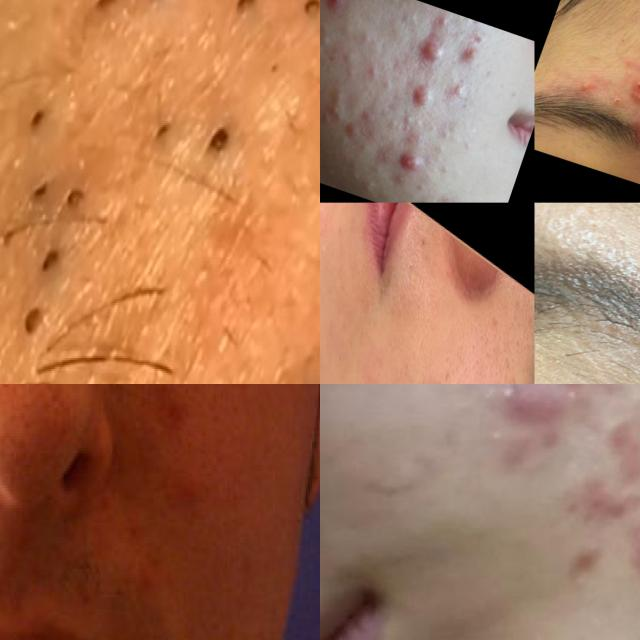acne_scars: (579, 397, 640, 485), (564, 471, 640, 525)
comedone: (552, 385, 598, 419), (478, 418, 518, 456), (204, 112, 232, 162), (56, 177, 88, 214), (22, 307, 48, 348), (234, 0, 266, 29), (27, 108, 56, 139), (39, 236, 60, 277), (432, 159, 459, 186), (358, 176, 385, 202), (87, 0, 125, 18), (357, 23, 382, 50), (397, 112, 429, 132), (301, 0, 320, 27), (320, 31, 335, 59), (379, 76, 398, 96), (339, 50, 354, 67), (320, 112, 324, 133)
papule: (478, 384, 539, 420), (563, 535, 608, 582), (394, 79, 432, 122), (412, 41, 453, 75), (445, 76, 477, 108), (429, 10, 461, 38), (401, 151, 430, 181), (320, 0, 346, 25)
pustule: (461, 48, 482, 78), (575, 75, 595, 96)
sebo-crystan-conglo: (620, 81, 640, 112)
